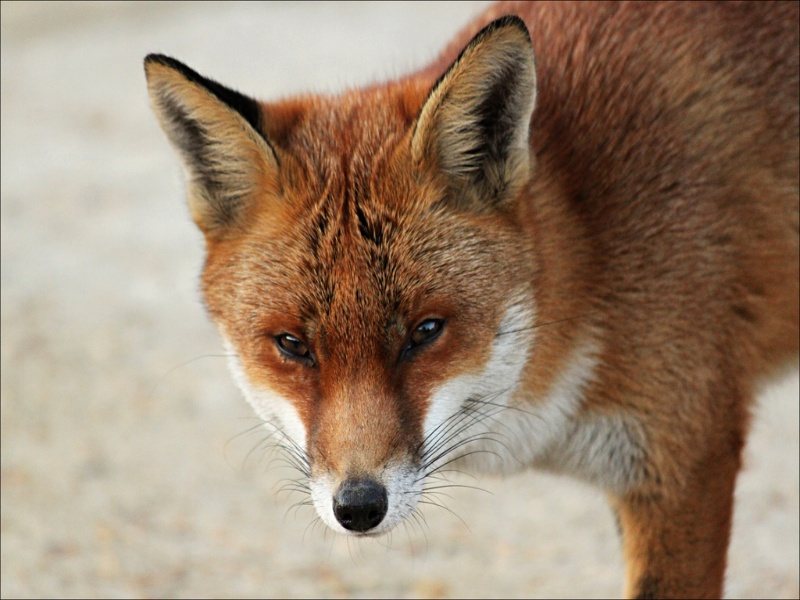fox: (143, 4, 800, 594)
